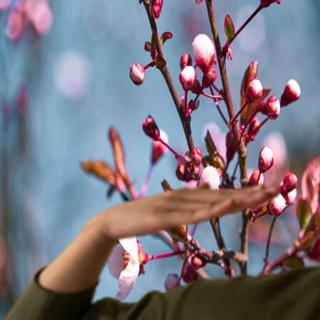WAIT: (84, 177, 276, 245)
